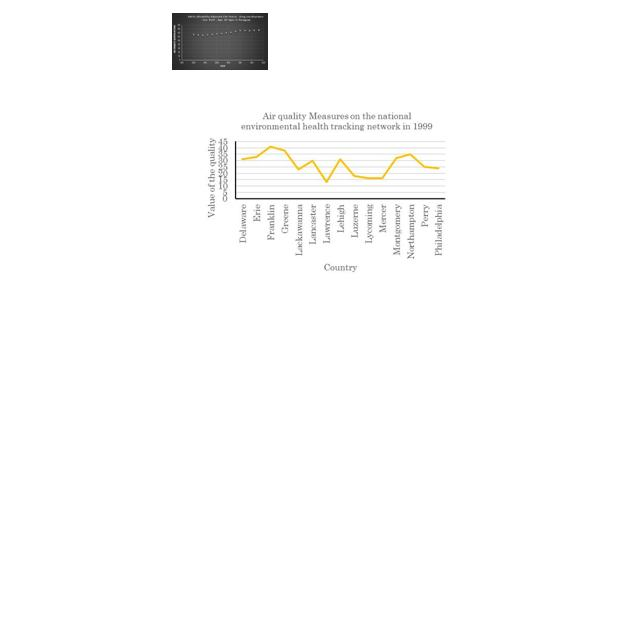Graph: (201, 108, 451, 277), (172, 13, 268, 70)
